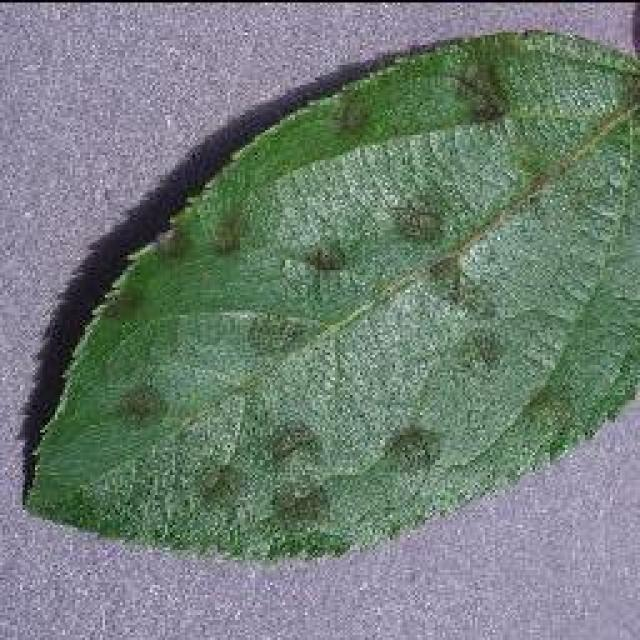apple scab disease: (18, 25, 638, 565)
